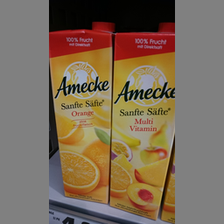juice: (110, 24, 176, 220), (49, 24, 111, 204)
